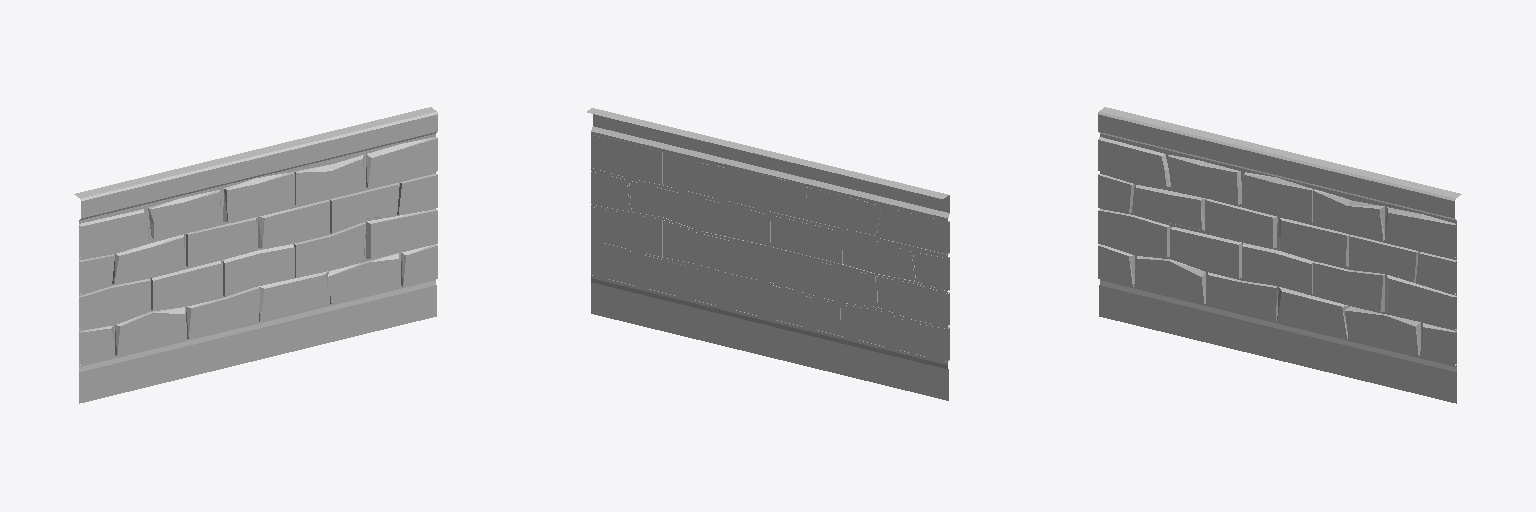
The model's file is wall_1.obj.
The picture shows the model from 3 angles: view 1: azimuth 30°, elevation 25°; view 2: azimuth 150°, elevation 25°; view 3: azimuth 330°, elevation 25°; orthographic projection.
Parts seen in each view (by area): view 1: Wall_OneSide; view 2: Wall_OneSide; view 3: Wall_OneSide.
Part boxes in pixels (x1,y1,x2,y2): Wall_OneSide: (74,107,437,403); Wall_OneSide: (587,108,949,400); Wall_OneSide: (1098,107,1461,403).
Size of the model in its own units: 2 by 1.1 by 0.0711.